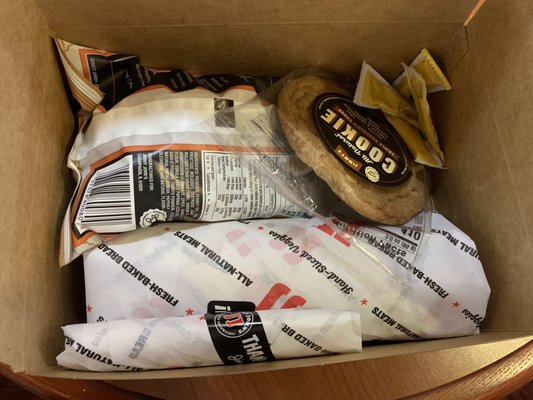sushi: (46, 5, 505, 399)
